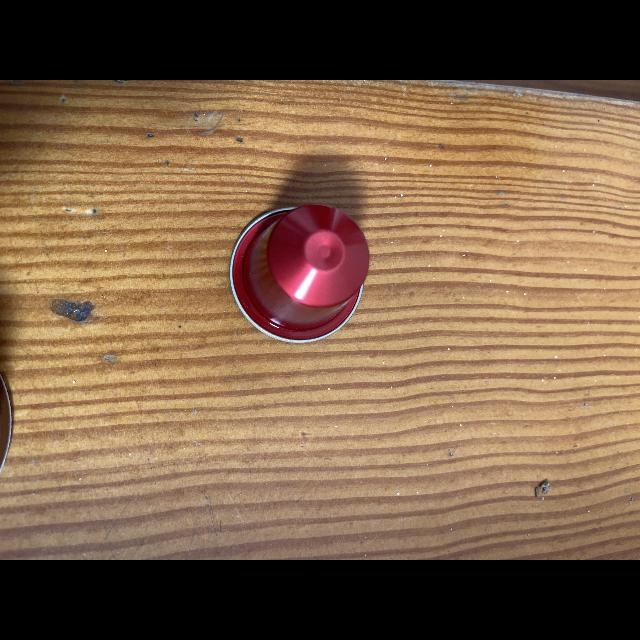intact_capsule: (213, 191, 407, 355)
